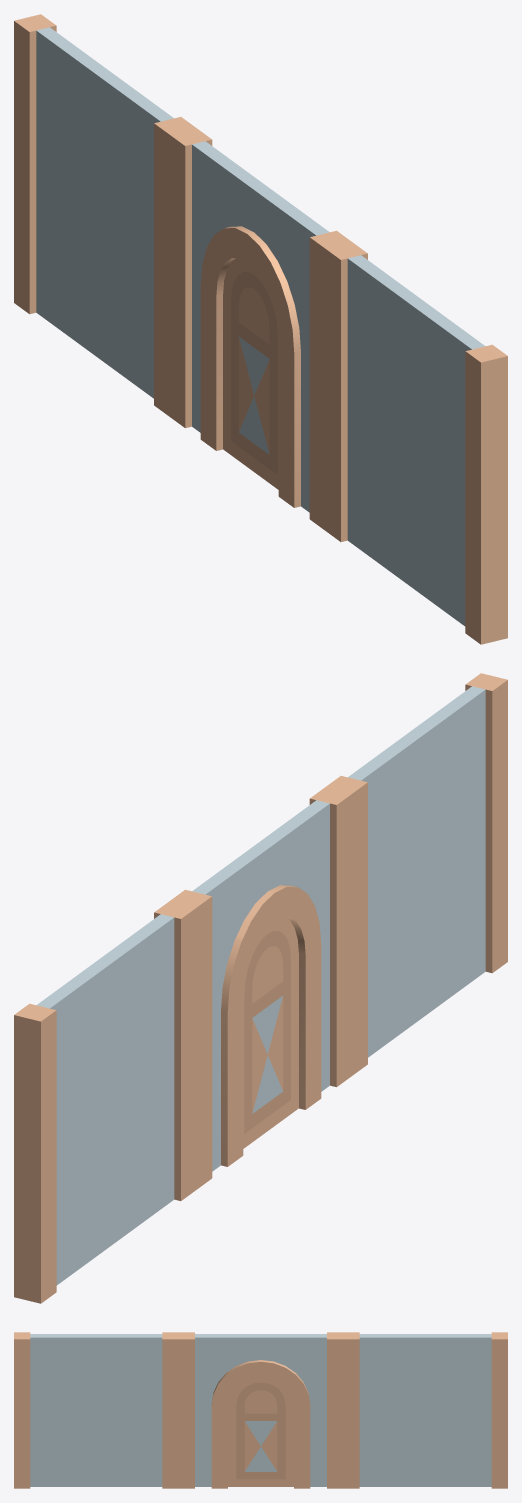
File: wall_with_door_closed.glb
3 views of the same model, one above another, from view 1: azimuth 30°, elevation 25°; view 2: azimuth 150°, elevation 25°; view 3: azimuth 270°, elevation 25° (orthographic). The views are drawn at different scales.
Visible parts, largest first — view 1: wallDoor; view 2: wallDoor; view 3: wallDoor.
Boxes of the visible parts, x1,y1,x2,y2 form: wallDoor: (14,14,507,644); wallDoor: (14,673,507,1303); wallDoor: (14,1332,507,1488).
Bounding box in the file's own units: 0.1 × 1 × 3.
